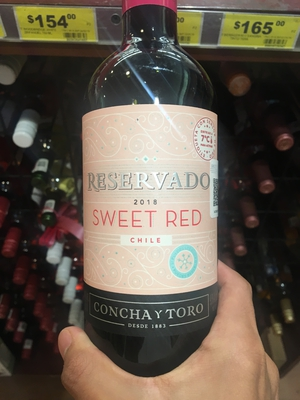reservado sweet red: (80, 18, 231, 361)
